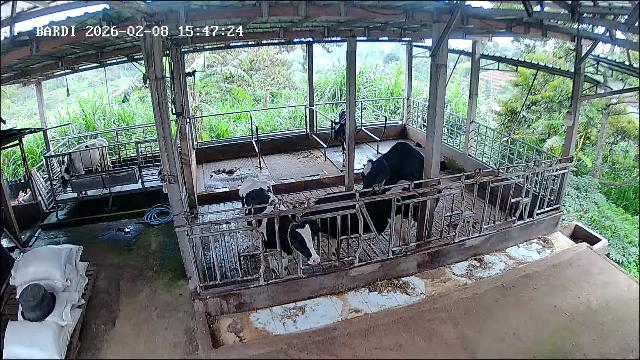mounting: (361, 138, 431, 242)
